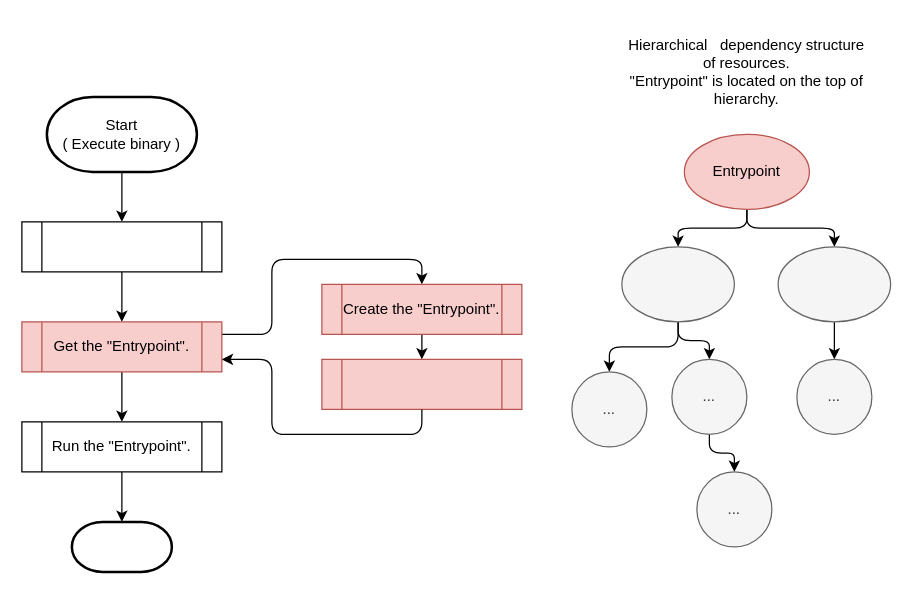
This 913x594 diagram has some shape labels left out. The box of each missing label's shape, as (x1, y1, x2, y2) in pixels:
AILERON Started: (70, 520, 172, 572)
Bar: (777, 246, 891, 322)
Create the dependent resources.: (321, 358, 522, 409)
Foo: (621, 246, 734, 322)
Load manifests.: (21, 221, 222, 272)
